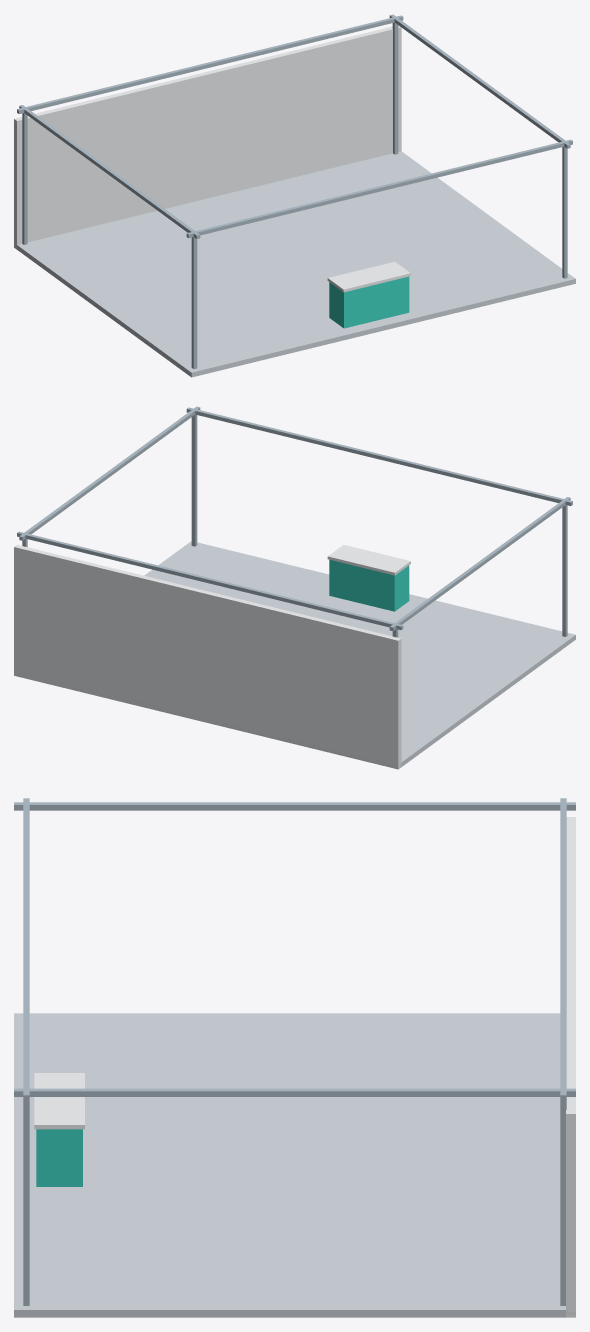
3 views of the same model, one above another, from view 1: azimuth 30°, elevation 25°; view 2: azimuth 150°, elevation 25°; view 3: azimuth 270°, elevation 25° (orthographic). The views are drawn at different scales.
Parts seen in each view (by area): view 1: Exhibition Booth Concept; view 2: Exhibition Booth Concept; view 3: Exhibition Booth Concept.
Boxes of the visible parts, x1,y1,x2,y2 form: Exhibition Booth Concept: (14,14,575,377); Exhibition Booth Concept: (14,406,575,769); Exhibition Booth Concept: (14,798,575,1317).
Size of the model in its own units: 10 by 3.49 by 8.
